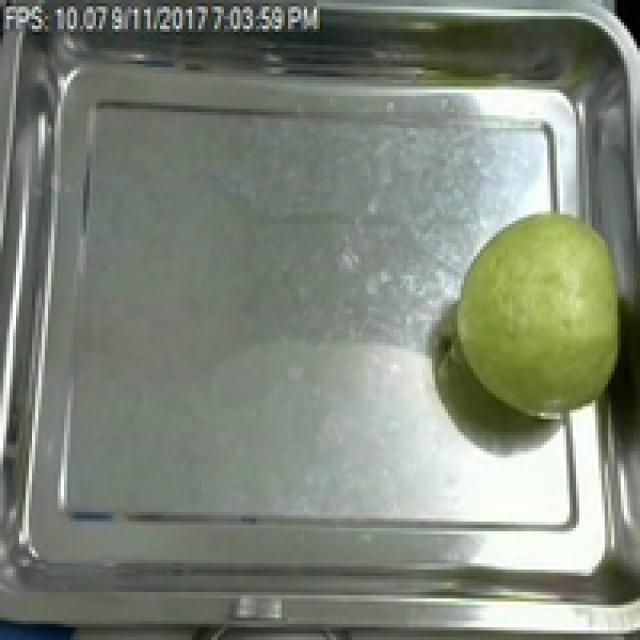Fruit: (445, 198, 637, 429)
